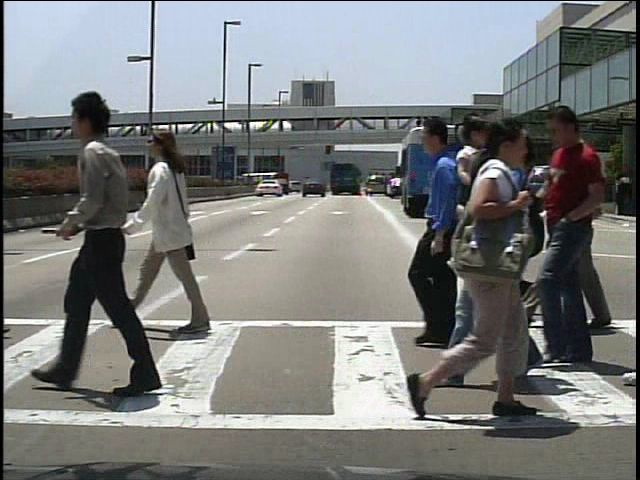person: (50, 79, 195, 401), (407, 112, 540, 426), (397, 117, 505, 348), (535, 105, 609, 375), (139, 120, 218, 336), (454, 130, 526, 322), (550, 142, 609, 340), (582, 168, 602, 218), (490, 163, 507, 215)
